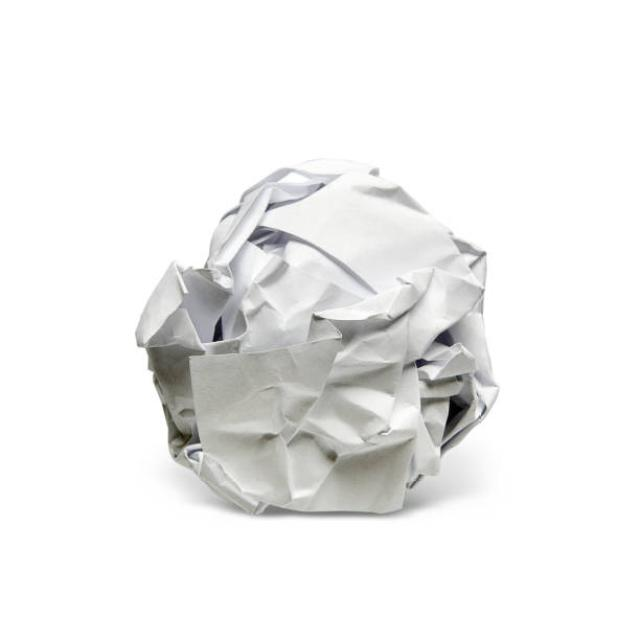electronic: (135, 157, 499, 515)
